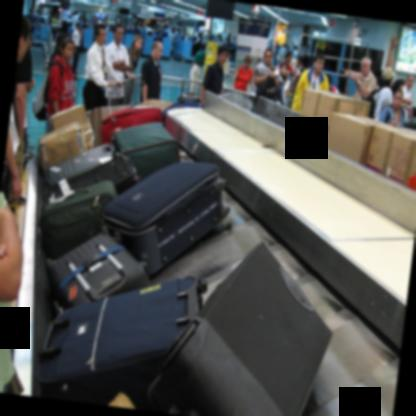backpack: (32, 70, 48, 120), (265, 70, 280, 96)
handbag: (128, 46, 133, 74)
suitcase: (147, 242, 337, 416), (37, 276, 208, 411), (102, 157, 230, 278), (47, 230, 150, 316), (39, 180, 118, 257), (115, 118, 179, 178), (46, 146, 114, 185), (100, 104, 163, 144), (162, 99, 202, 111)
